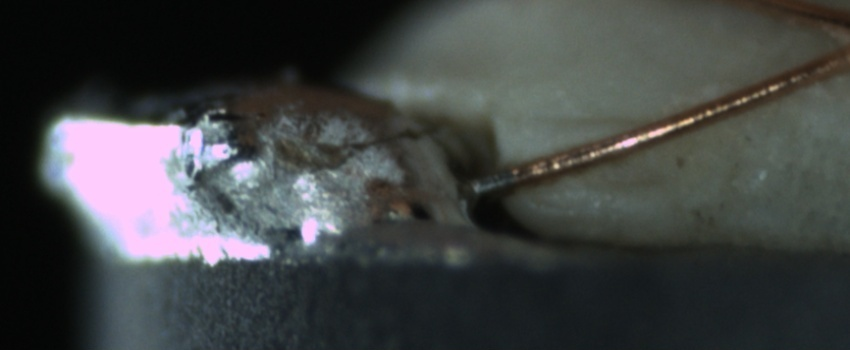DL: (511, 88, 653, 149)
TS: (467, 167, 517, 197)
